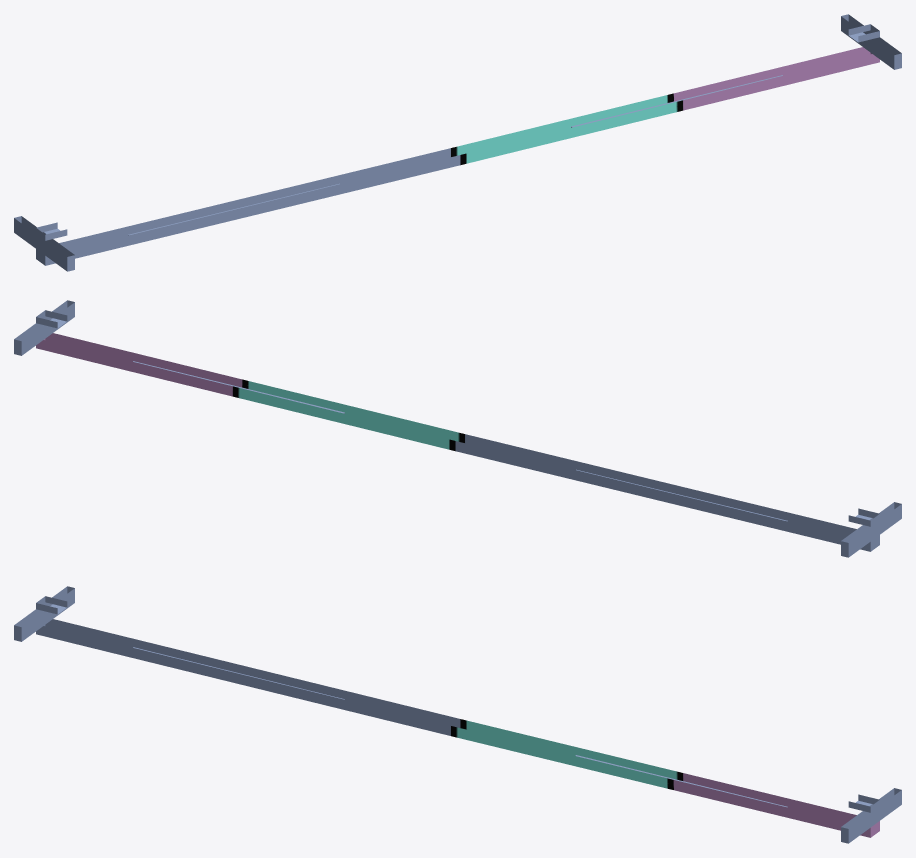
The model's file is CWR_Flat_Roof_light.fbx.
3 renders of one model, top to bottom at view 1: azimuth 30°, elevation 25°; view 2: azimuth 150°, elevation 25°; view 3: azimuth 330°, elevation 25°, orthographic.
Parts seen in each view (by area): view 1: pasted__TrainStation_PlatformRoof7; view 2: pasted__TrainStation_PlatformRoof7; view 3: pasted__TrainStation_PlatformRoof7.
Part boxes in pixels (left/top/right/bottom): pasted__TrainStation_PlatformRoof7: left=14, top=14, right=901, bottom=271; pasted__TrainStation_PlatformRoof7: left=14, top=300, right=901, bottom=557; pasted__TrainStation_PlatformRoof7: left=14, top=586, right=901, bottom=843.
Bounding box in the file's own units: 614 × 22.45 × 68.1.
